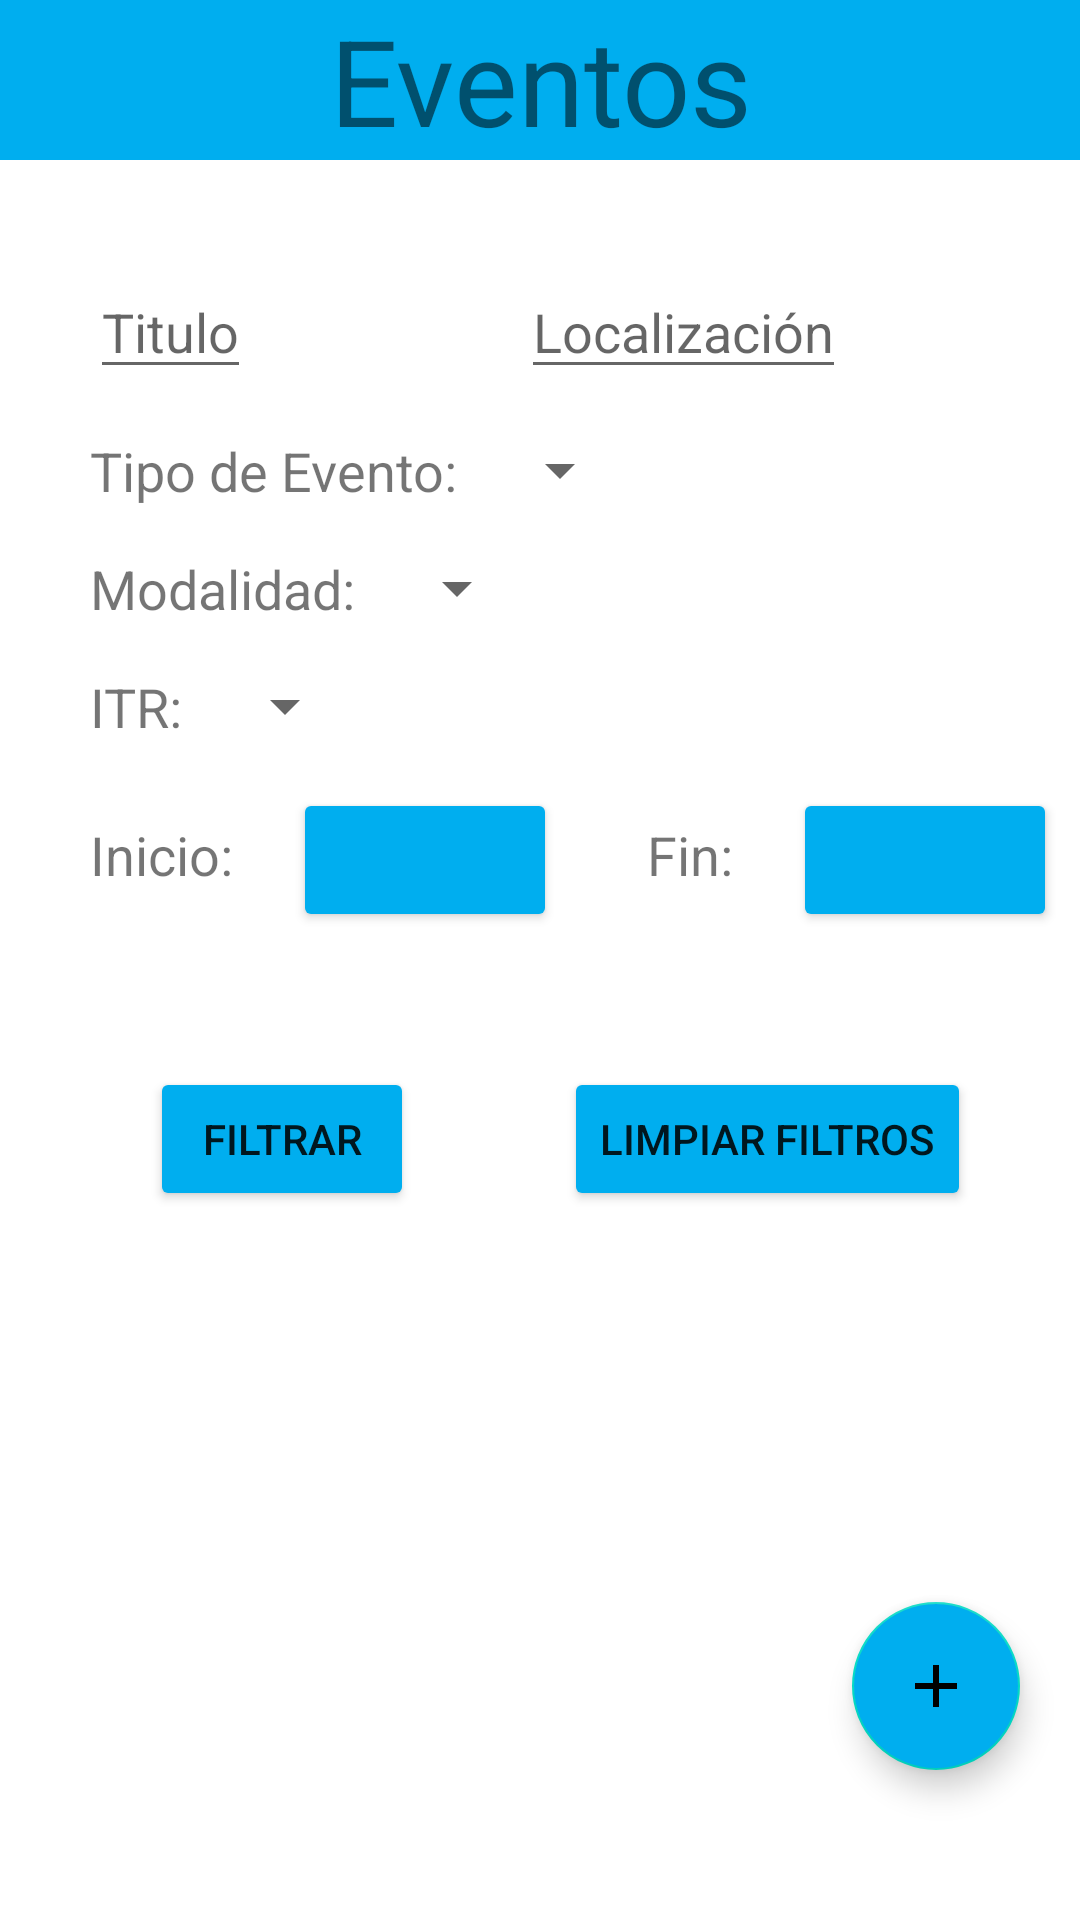

Screen size 1080px x 1920px. Icon name, then its box in pixels as region(x1, y1, x2, y2):
add: region(852, 1602, 1020, 1770)
